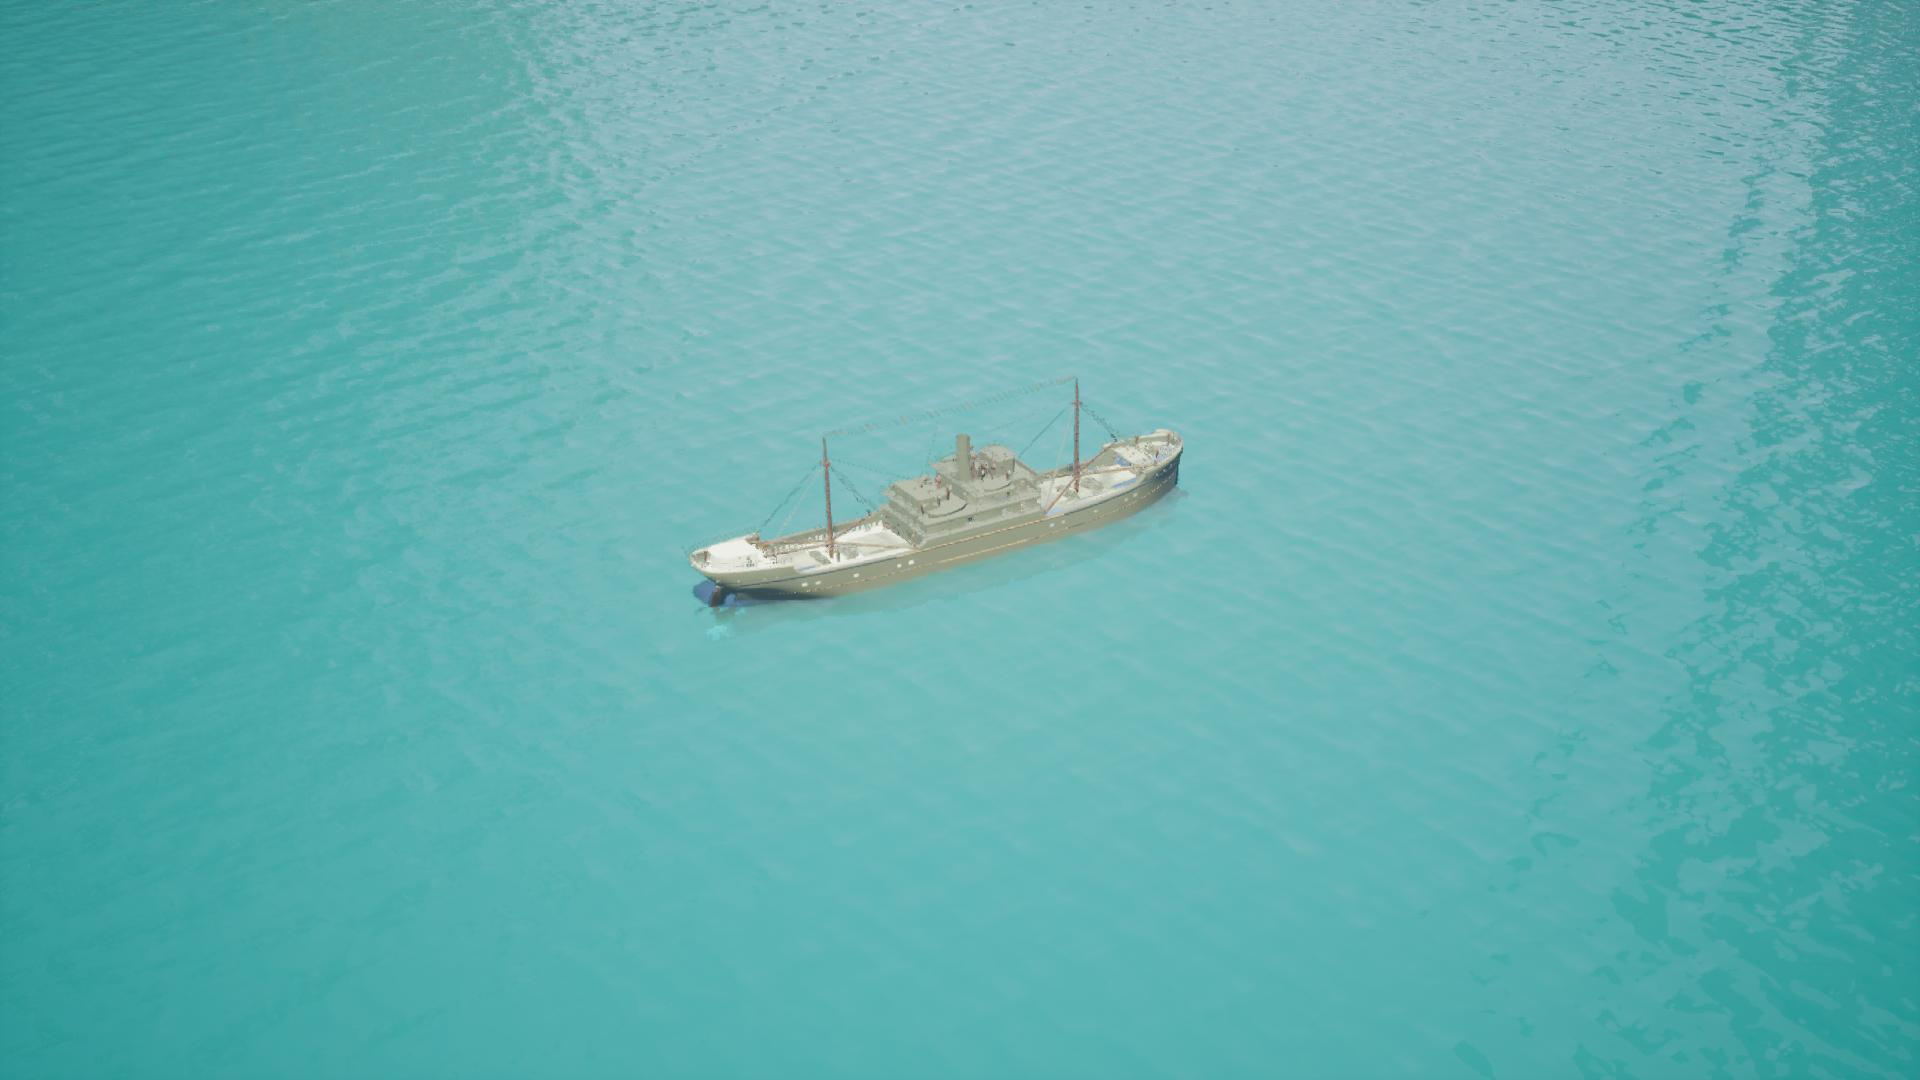Fishing Boat: (687, 396, 1187, 608)
